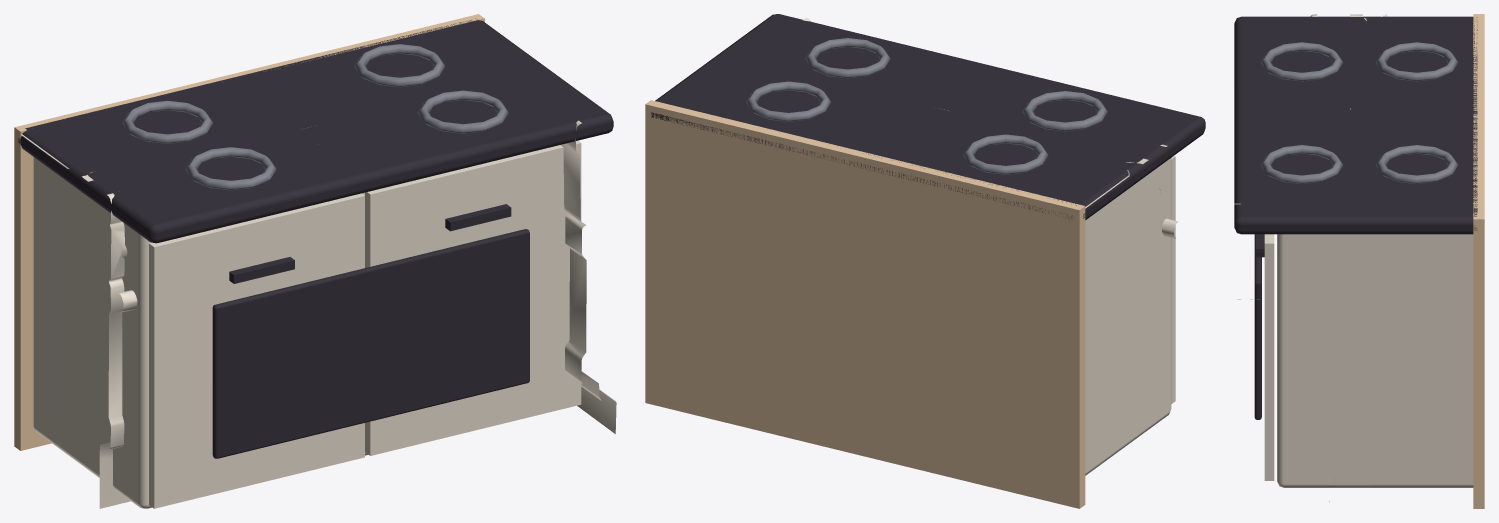
The model's file is show_kitchen_range.glb.
3 renders of one model, left to right at view 1: azimuth 30°, elevation 25°; view 2: azimuth 150°, elevation 25°; view 3: azimuth 270°, elevation 25°, orthographic. The views are drawn at different scales.
Size of the model in its own units: 1.75 by 1.18 by 0.9.
